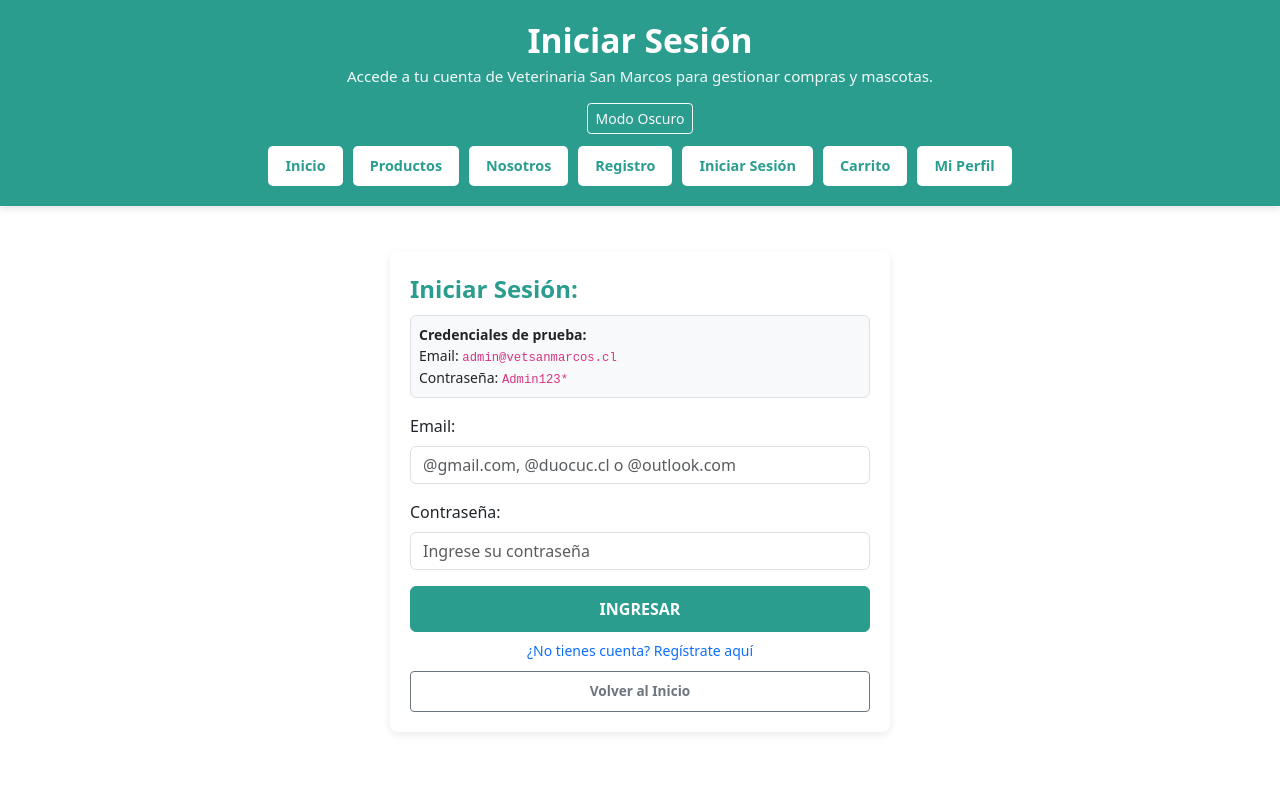
Test case: Login › Validación de campos requeridos en Login (error si están vacíos)
Act (Acción)
Click the button "INGRESAR": [640, 610] box [410,586,870,632]
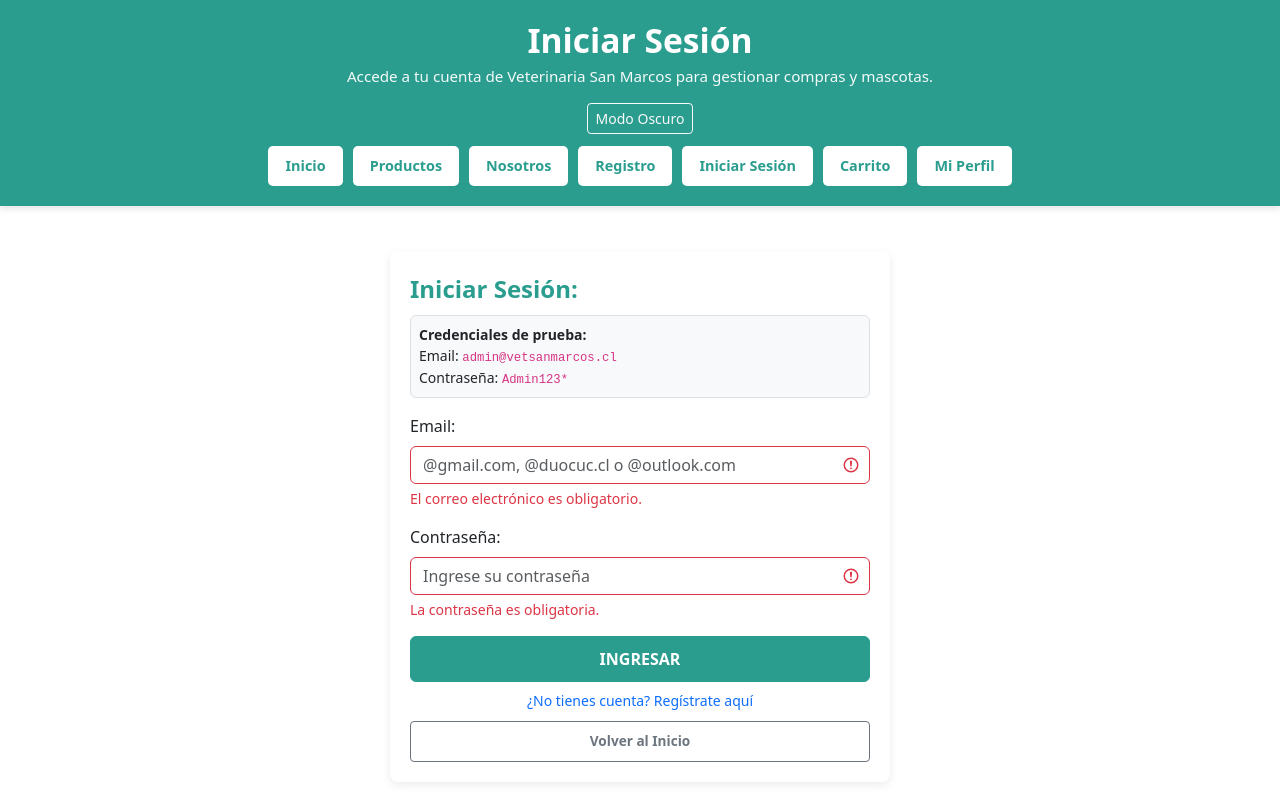
Expected: the text "El correo electrónico es obligatorio." is shown, [410,490,642,508]
Expected: the text "La contraseña es obligatoria." is shown, [410,600,599,620]
